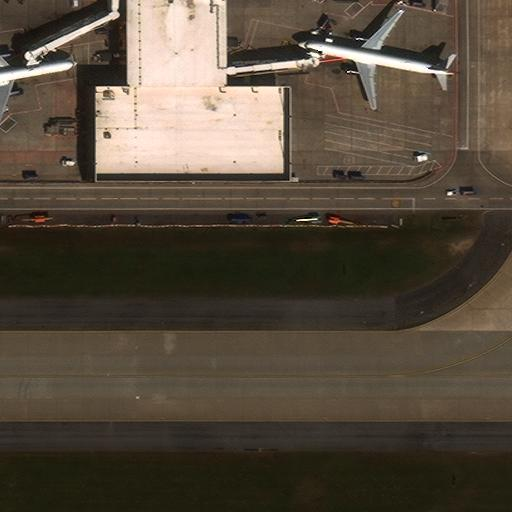Large Civil Transport: (0, 33, 77, 130)
Medium Civil Transport: (298, 9, 454, 109)
